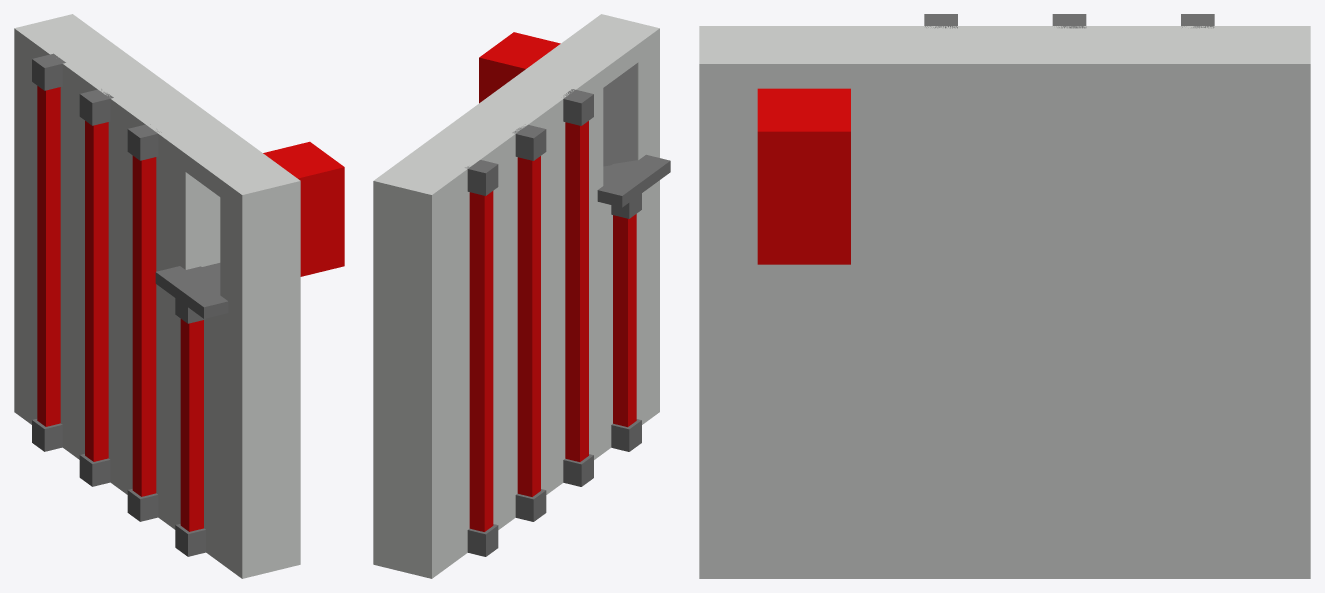
File: backdrop future1.fbx
The picture shows the model from 3 angles, left to right: view 1: azimuth 30°, elevation 25°; view 2: azimuth 150°, elevation 25°; view 3: azimuth 270°, elevation 25°; orthographic projection. The views are drawn at different scales.
Visible parts, largest first — view 1: Cube.002, Cube.001; view 2: Cube.002, Cube.001; view 3: Cube.002, Cube.001.
Boxes of the visible parts, left/top/right/bottom form: Cube.002: left=14, top=14, right=300, bottom=578; Cube.001: left=263, top=141, right=344, bottom=276; Cube.002: left=373, top=14, right=670, bottom=578; Cube.001: left=479, top=32, right=560, bottom=103; Cube.002: left=699, top=14, right=1310, bottom=578; Cube.001: left=757, top=88, right=850, bottom=264.
Bounding box in the file's own units: 718 × 1772 × 1907.
